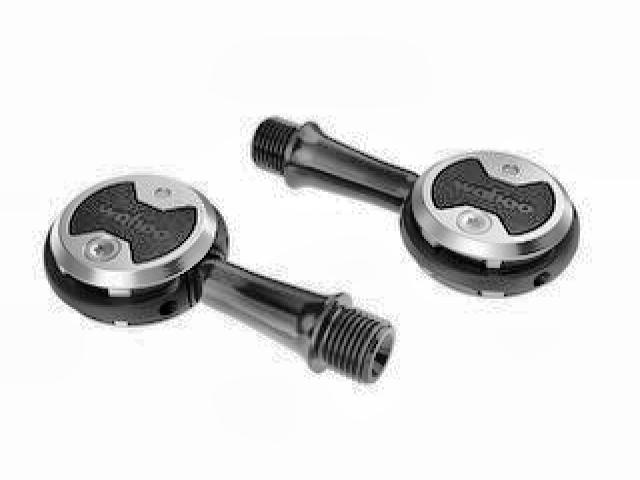pedal: (38, 167, 400, 392), (248, 90, 584, 304)
